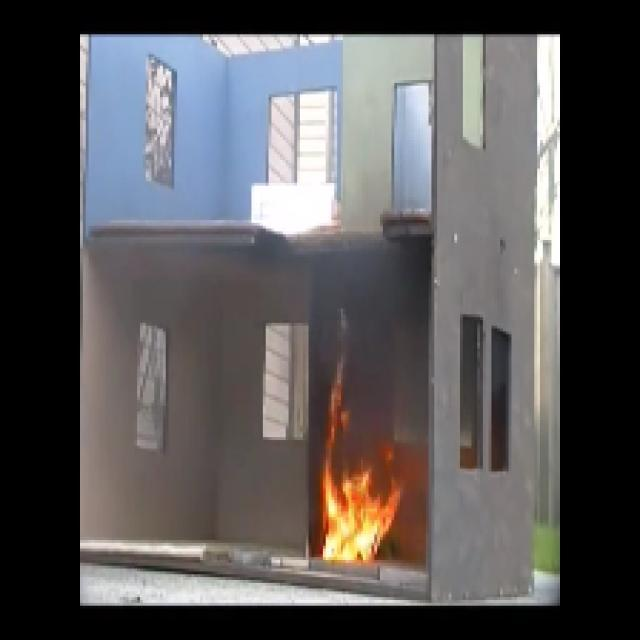Fire: (310, 460, 400, 560)
